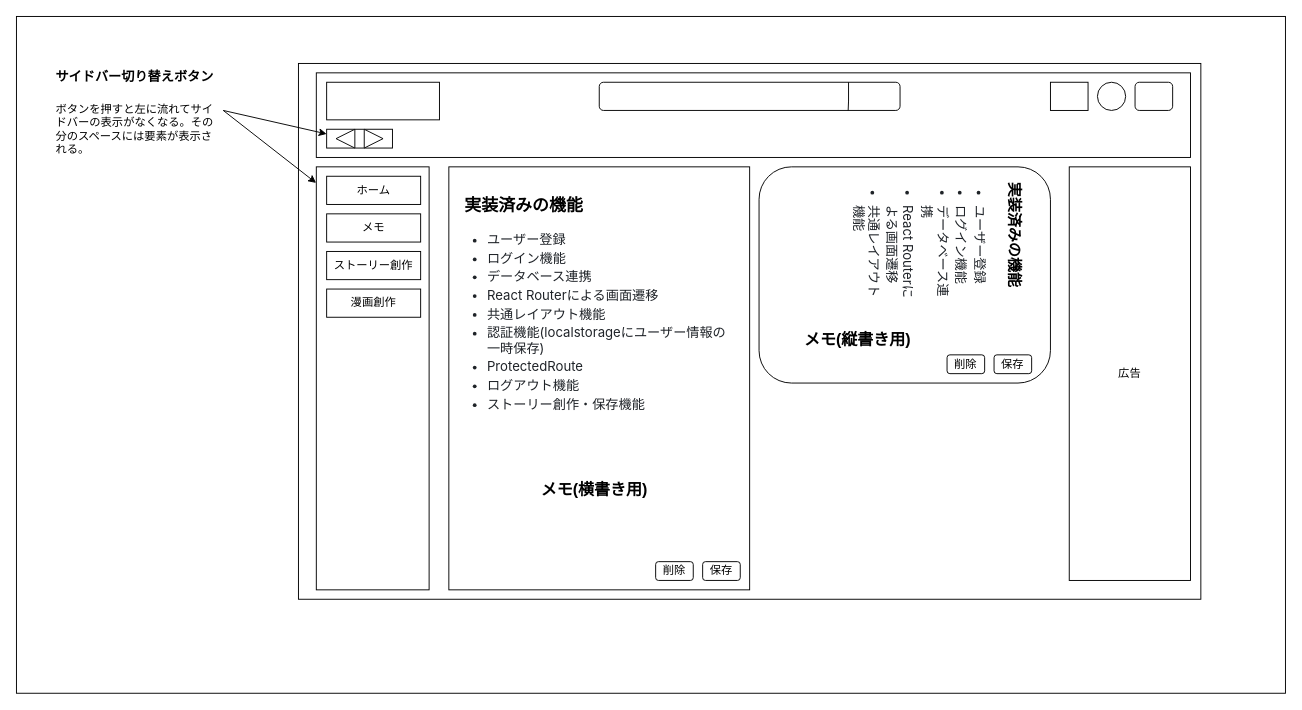
Image size: 1302x710. Some labels were removed from this diagram. The shapes that lost their labels are listed below. From the top down, each one's centre as x and y in pixels, then its label:
pixel 382 100: LOGO
pixel 1069 95: 設定
pixel 1111 95: アイコン
pixel 1153 95: ログアウト
